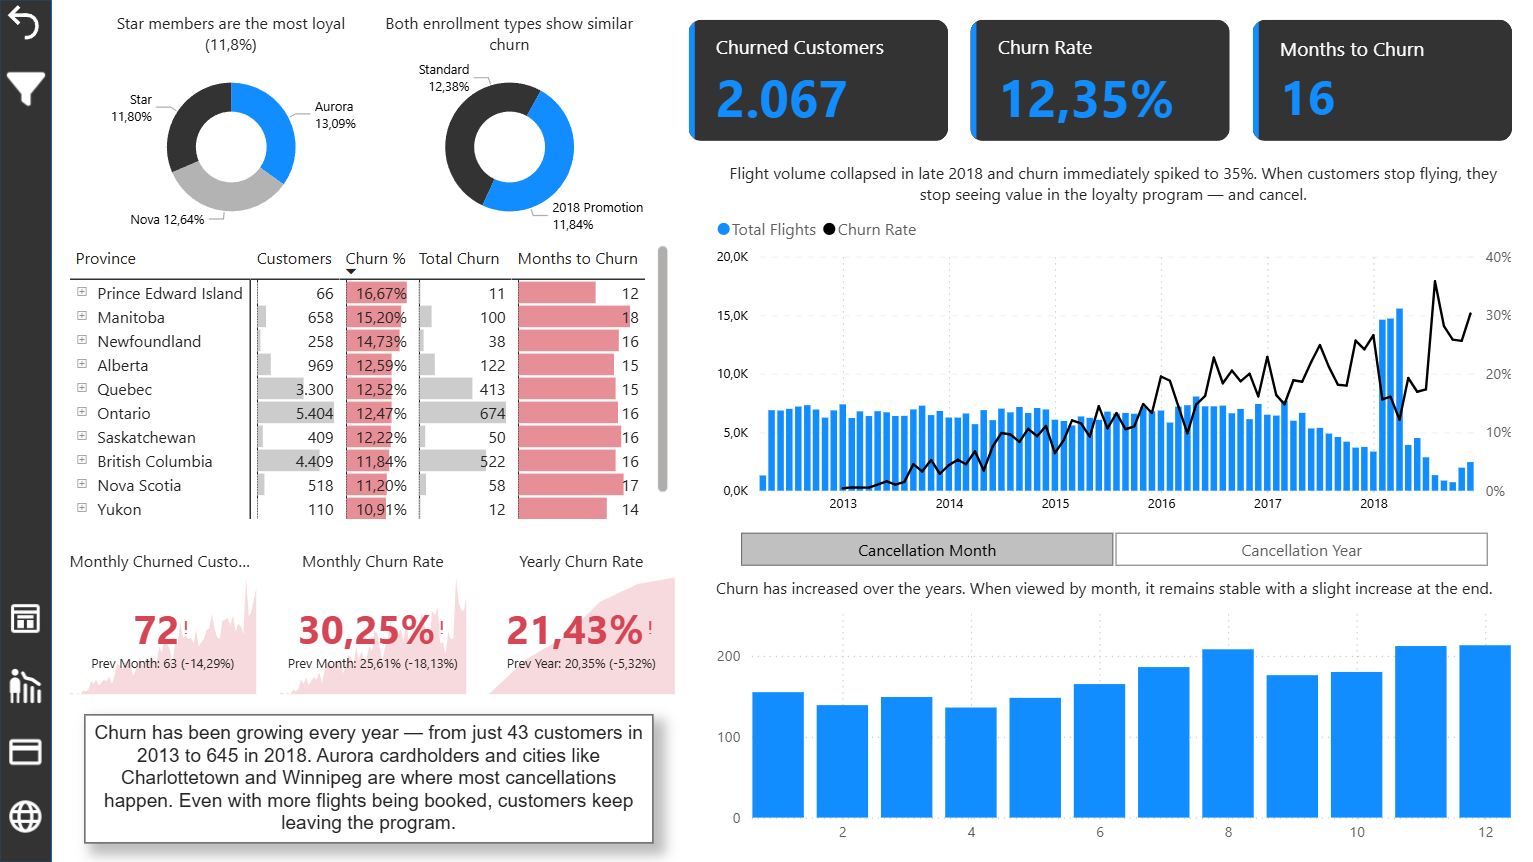

Layout of this report page (visuals, bound fields, positions):
{"tool":"powerbi","page":{"name":"Churn Analysis","canvas":[1280,720],"ordinal":1},"visuals":[{"type":"kpi","title":"Monthly Churn Rate","fields":{"TrendLine":["Calendar.StartOfMonth"],"Indicator":["Measures DAX.Churn Rate (Time)"],"Goal":["Measures DAX.Previous Month Churn Rate"]},"box":[228.6,458.1,165.6,125.6],"z":1000},{"type":"pivotTable","fields":{"Rows":["Customer_Loyalty_History.Province","Customer_Loyalty_History.City"],"Values":["Measures DAX.Total Customers (Time)","Measures DAX.Churn Rate (Time)","Measures DAX.Churned Customers (Time)","Measures DAX.Avg Tenure Before Churn"]},"box":[53.8,200,508.8,237.5],"z":2000},{"type":"shape","box":[0,0,44.3,720],"z":3000},{"type":"cardVisual","fields":{"Data":["Measures DAX.Churned Customers (Time)","Measures DAX.Churn Rate (Time)","Measures DAX.Avg Tenure Before Churn"]},"box":[557.8,0,722.2,135],"z":4000},{"type":"actionButton","box":[1.4,0,44.3,38.6],"z":5000},{"type":"actionButton","box":[2,55,44.3,40],"z":6000},{"type":"donutChart","title":"Star members are the most loyal (11,8%)","fields":{"Category":["Customer_Loyalty_History.LoyaltyCard"],"Y":["Measures DAX.Churn Rate (Time)"]},"box":[77.1,10,231.4,190],"z":7000},{"type":"lineStackedColumnComboChart","title":"Flight volume collapsed in late 2018 and churn immediately spiked to 35%. When customers stop flying, they stop seeing value in the loyalty program — and cancel.","fields":{"Category":["Calendar.StartOfMonth"],"Y2":["Measures DAX.Churn Rate (Time)"],"Y":["Measures DAX.Total Flights (Time)"]},"box":[592.1,135.6,672.1,302.4],"z":8000},{"type":"clusteredColumnChart","title":"Churn has increased over the years. When viewed by month, it remains stable with a slight increase at the end.","fields":{"Category":["Customer_Loyalty_History.CancellationMonth"],"Y":["Measures DAX.Churned Customers (Time)"]},"box":[592.1,480.9,672.1,230.6],"z":9000},{"type":"kpi","title":"\tMonthly Churned Customers","fields":{"TrendLine":["Calendar.StartOfMonth"],"Indicator":["Measures DAX.Churned Customers (Time)"],"Goal":["Measures DAX.Previous Month Churned Customers"]},"box":[54.1,458.1,165.6,125.6],"z":10000},{"type":"slicer","fields":{"Values":["Parameter 2.Parameter"]},"box":[592.1,438,672.1,41.7],"z":11000},{"type":"donutChart","title":"Both enrollment types show similar churn","fields":{"Y":["Measures DAX.Churn Rate (Time)"],"Category":["Customer_Loyalty_History.EnrollmentType"]},"box":[308.6,10,232.9,190],"z":12000},{"type":"kpi","title":"Yearly Churn Rate","fields":{"Indicator":["Measures DAX.Churn Rate (Time)"],"Goal":["Measures DAX.Previous Year Churn Rate"],"TrendLine":["Calendar.StartOfYear"]},"box":[403,458.1,165.6,125.6],"z":13000},{"type":"textbox","box":[71.4,595.7,474.3,107.1],"z":14000},{"type":"actionButton","box":[0,496.7,44.2,40],"z":15000},{"type":"actionButton","box":[0,551.9,44.4,40],"z":16000},{"type":"actionButton","box":[0,607.3,44.4,40],"z":17000},{"type":"actionButton","box":[0,661.4,44.3,40],"z":18000}]}

Visuals, with their boxes on the page's 1280x720 design canvas (x1, y1, x2, y2). These are canvas units, not pixel positions in the 1533x862 screenshot, which may show the page scaled, cropped or inside an application window:
"Monthly Churn Rate" kpi: box(229, 458, 394, 584)
pivotTable - Customer_Loyalty_History.Province x Customer_Loyalty_History.City: box(54, 200, 563, 438)
shape: box(0, 0, 44, 720)
cardVisual - Measures DAX.Churned Customers (Time) x Measures DAX.Churn Rate (Time): box(558, 0, 1280, 135)
actionButton: box(1, 0, 46, 39)
actionButton: box(2, 55, 46, 95)
"Star members are the most loyal (11,8%)" donutChart: box(77, 10, 308, 200)
"Flight volume collapsed in late 2018 and churn immediately spiked to 35%. When customers stop flying, they stop seeing value in the loyalty program — and cancel." lineStackedColumnComboChart: box(592, 136, 1264, 438)
"Churn has increased over the years. When viewed by month, it remains stable with a slight increase at the end." clusteredColumnChart: box(592, 481, 1264, 712)
"	Monthly Churned Customers" kpi: box(54, 458, 220, 584)
slicer - Parameter 2.Parameter: box(592, 438, 1264, 480)
"Both enrollment types show similar churn" donutChart: box(309, 10, 542, 200)
"Yearly Churn Rate" kpi: box(403, 458, 569, 584)
textbox: box(71, 596, 546, 703)
actionButton: box(0, 497, 44, 537)
actionButton: box(0, 552, 44, 592)
actionButton: box(0, 607, 44, 647)
actionButton: box(0, 661, 44, 701)
